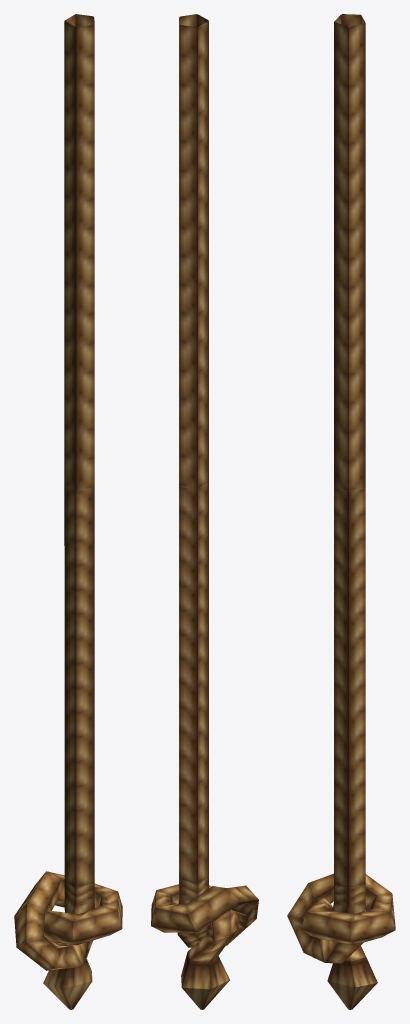
Rendered from Inside_Poly_Rope_01.obj.
3 views of the same model, side by side, from view 1: azimuth 30°, elevation 25°; view 2: azimuth 210°, elevation 25°; view 3: azimuth 330°, elevation 25° (orthographic).
Parts seen in each view (by area): view 1: Cube_Cube.002; view 2: Cube_Cube.002; view 3: Cube_Cube.002.
Boxes of the visible parts, x1=… form: Cube_Cube.002: x1=14, y1=14, x2=122, y2=1009; Cube_Cube.002: x1=151, y1=14, x2=258, y2=1009; Cube_Cube.002: x1=287, y1=14, x2=395, y2=1009.
Bounding box in the file's own units: 0.3171 × 2.88 × 0.2269.
1 material, 1 textured.
